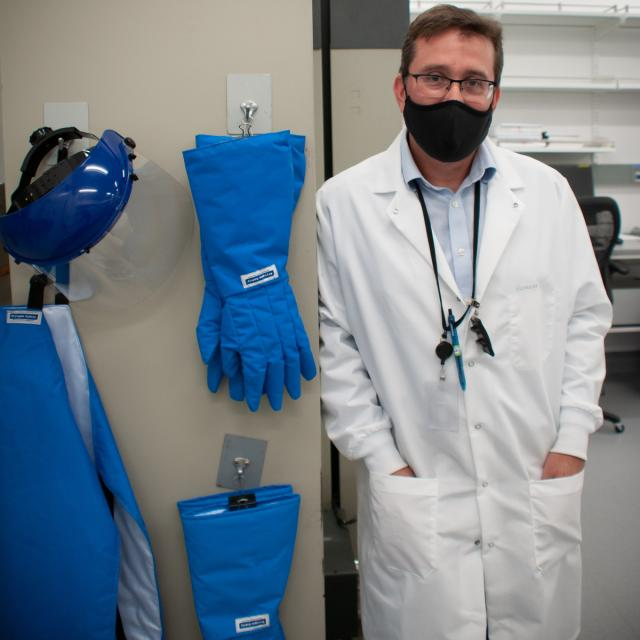Gloves: (179, 118, 324, 438)
Mask: (327, 2, 624, 627), (380, 71, 515, 167)
